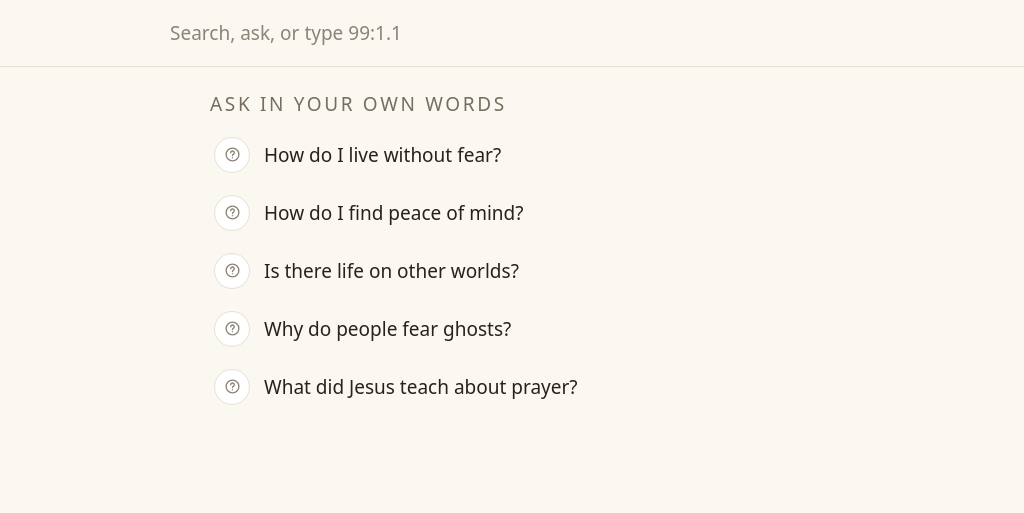
Test: while the reader types › shows papers by title, then the search row
Step 1. Type "nature" into the search field named "Search the Papers" → [495, 33], box [166,10,824,56]
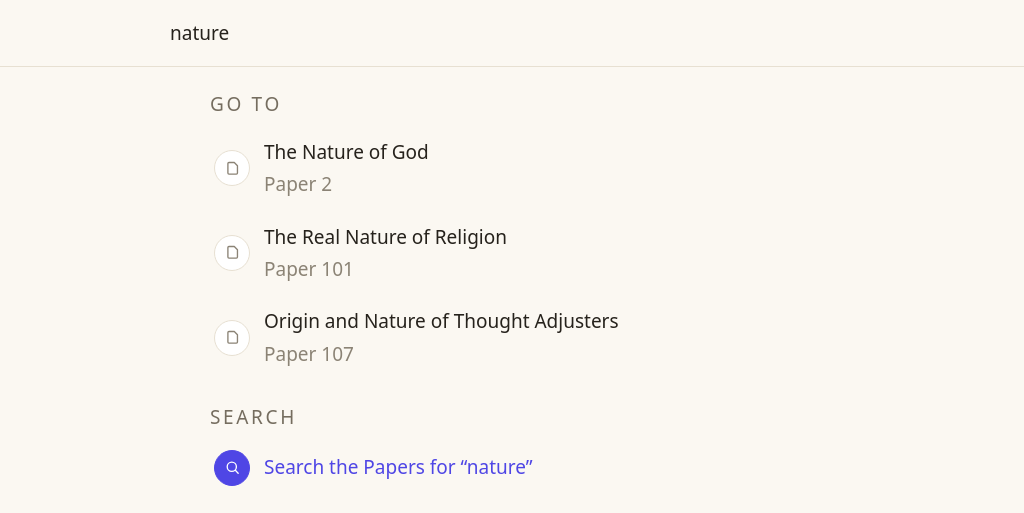
Expected: the button "Search the Papers for “nature”" is shown, [210,438,814,496]
Expected: the heading "Ask in your own words" is gone
